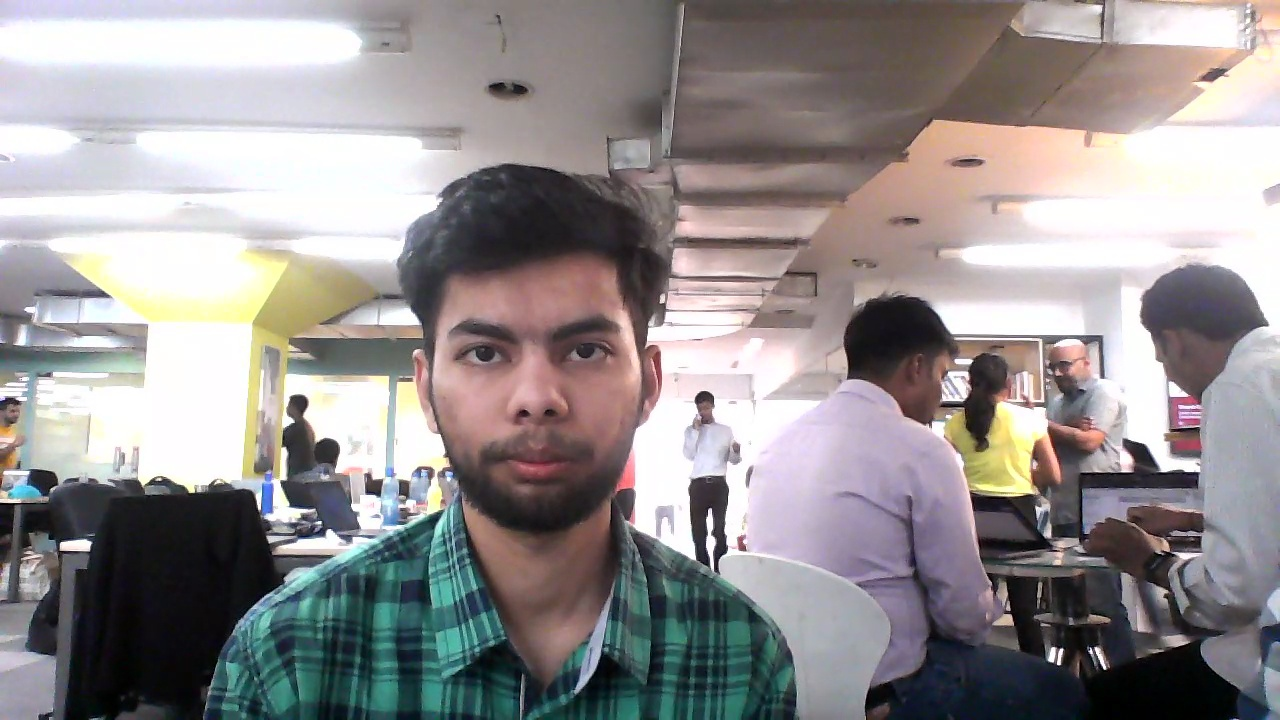open: (394, 162, 668, 540)
